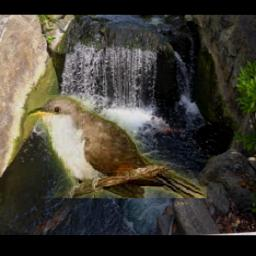Cuckoo: (27, 95, 207, 198)
